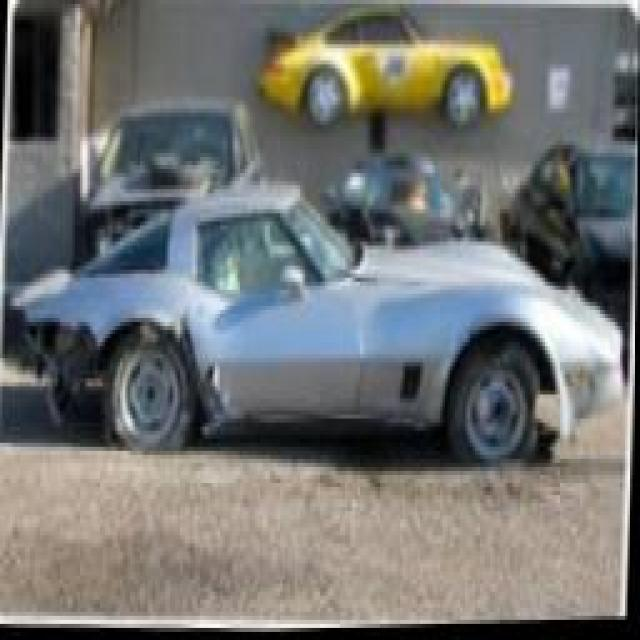Door: (194, 339, 285, 444)
Fender: (7, 294, 189, 426)
